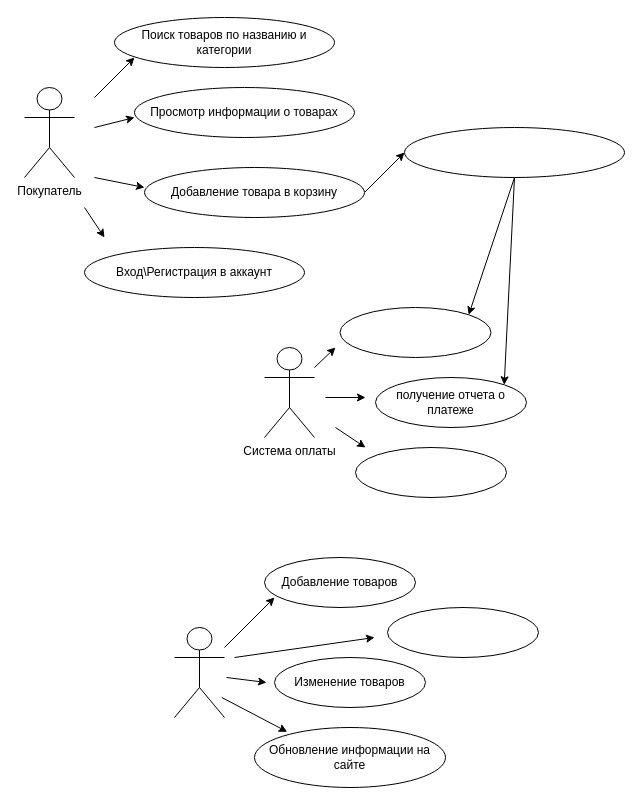
Image size: 642x805. Some labels were removed from this diagram. Each missing label, with the box of its shape:
Администратор: (174, 626, 224, 718)
обработка платежа: (339, 306, 491, 358)
Оформление заказа: (404, 126, 624, 178)
Удаление товаров: (386, 606, 538, 658)
Хранение информации о платеже: (354, 446, 506, 498)
